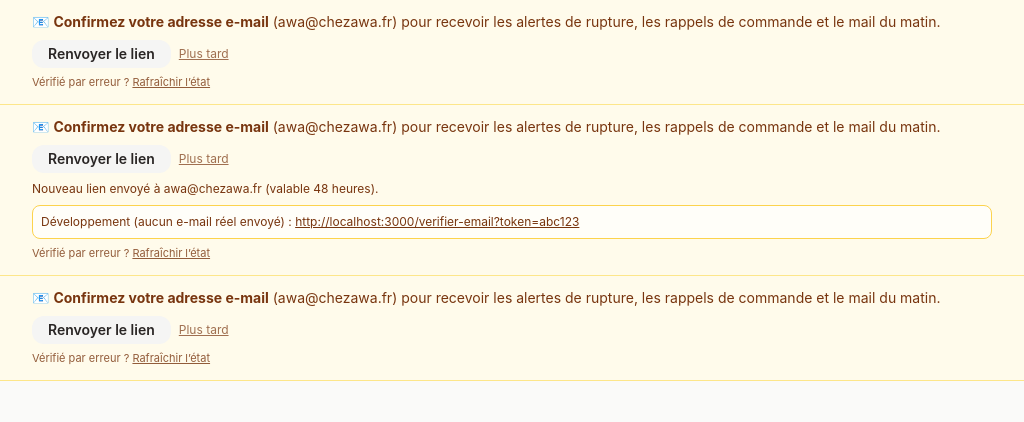
Test: Bandeau « confirmez votre e-mail » › quand aucun e-mail ne peut partir, ne prétend pas le contraire
Click the 3rd button "Renvoyer le lien": coordinates (101, 330) top-left (32, 316), bottom-right (171, 344)
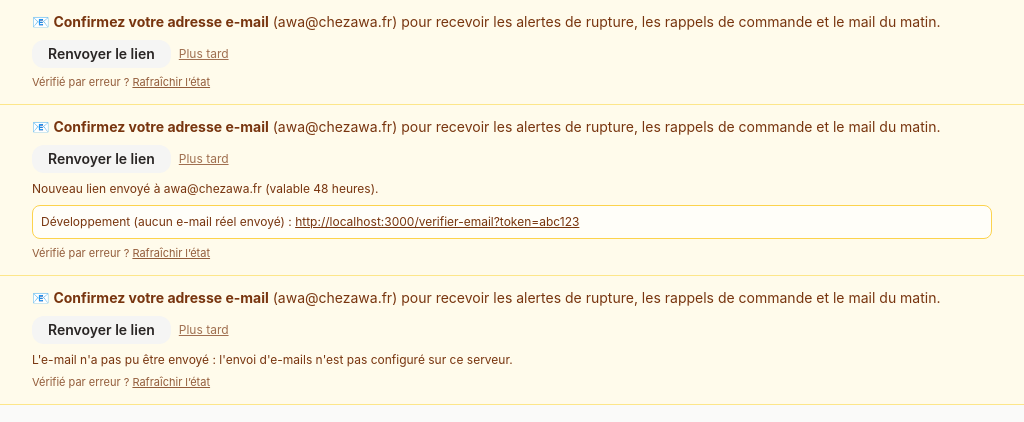
Expected: the text "Nouveau lien envoyé" is not shown
Expected: the text "pas pu être envoyé" is shown, top-left (32, 352), bottom-right (513, 367)
